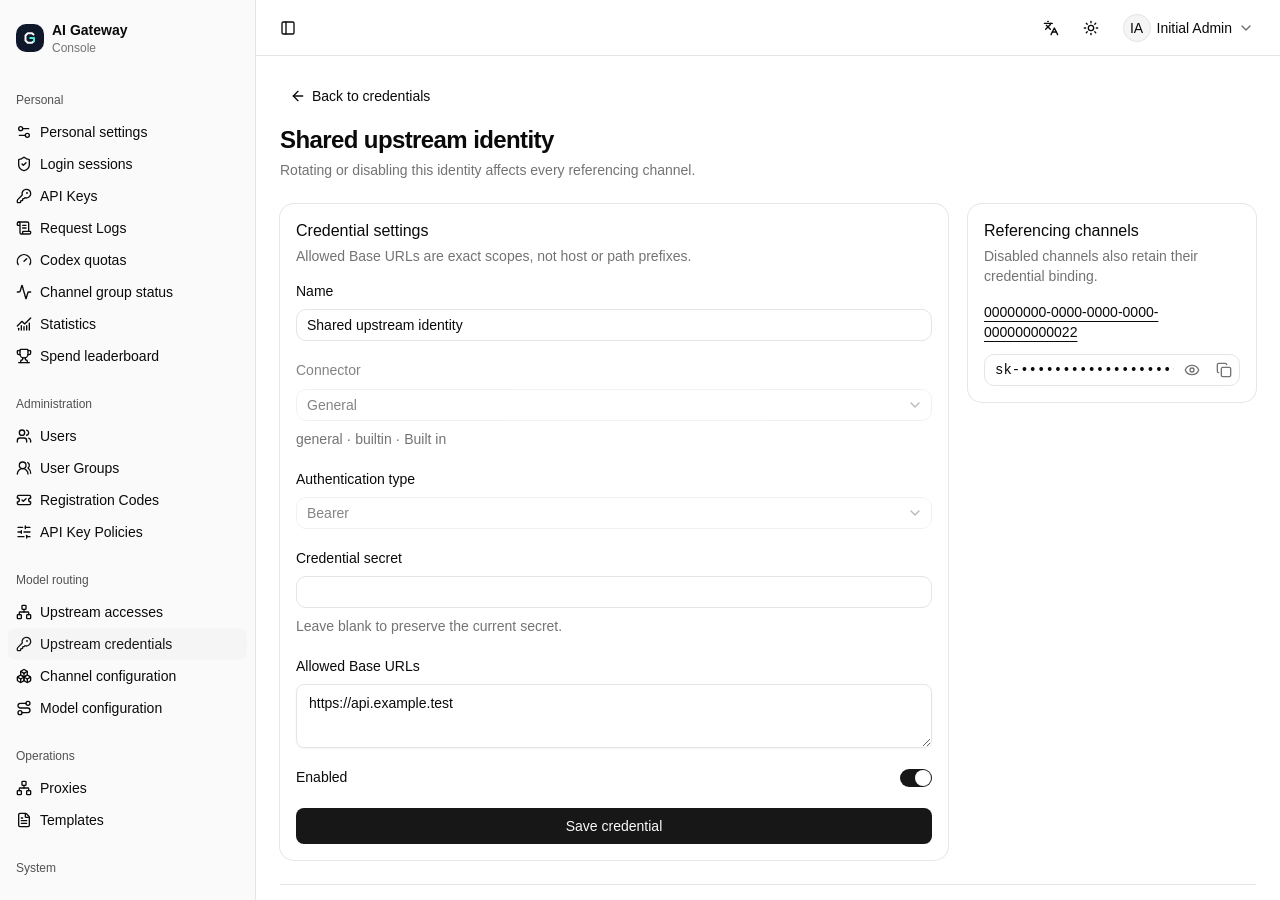
upstream credential management › reloads a conflicting credential edit
Check: the field labelled "Name" holds "Shared upstream identity", box [296, 309, 932, 341]
Click the button "Save credential" at (614, 826), box [296, 808, 932, 844]
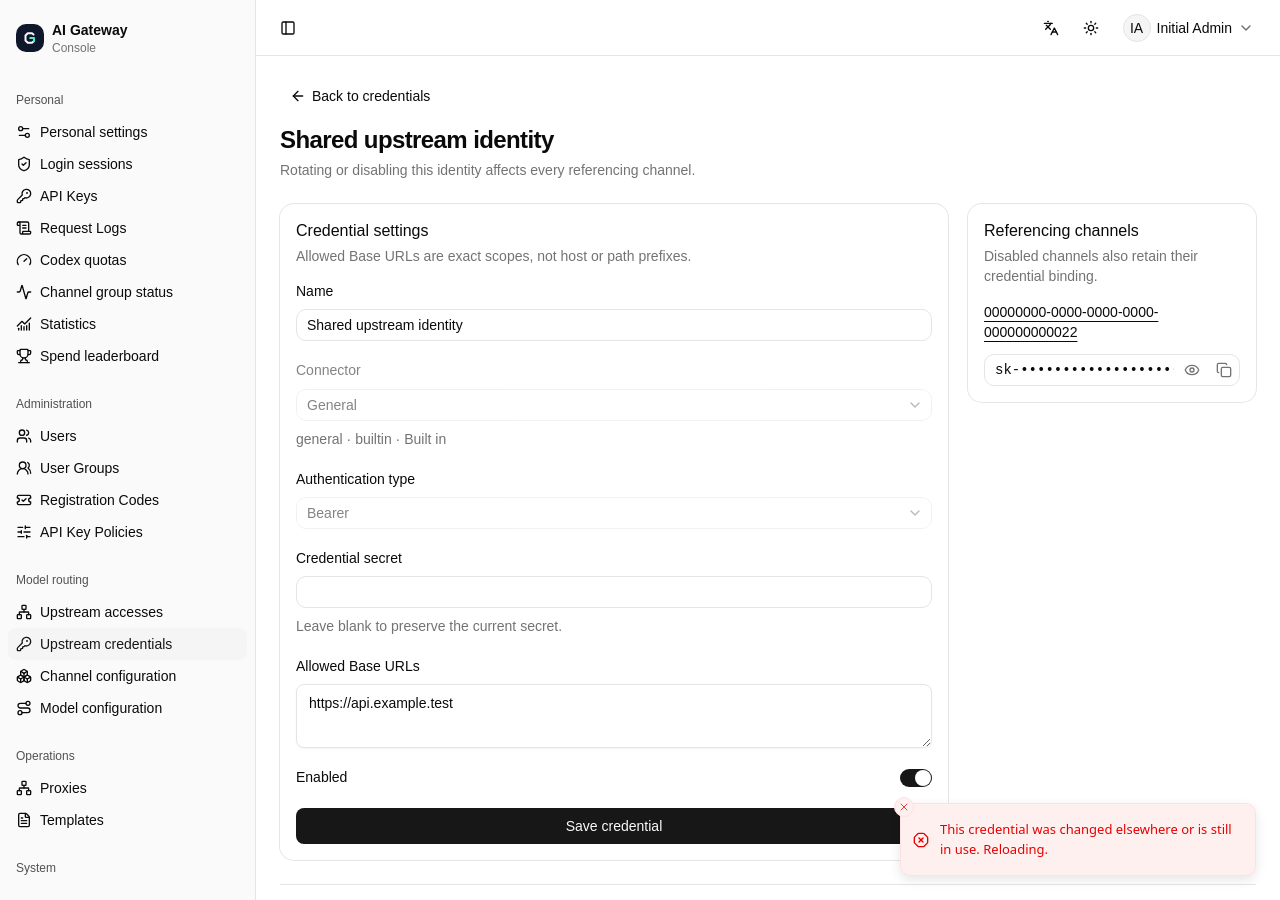
Check: the text "This credential was changed elsewhere or is still in use. Reloading." is shown, box [940, 820, 1239, 859]
